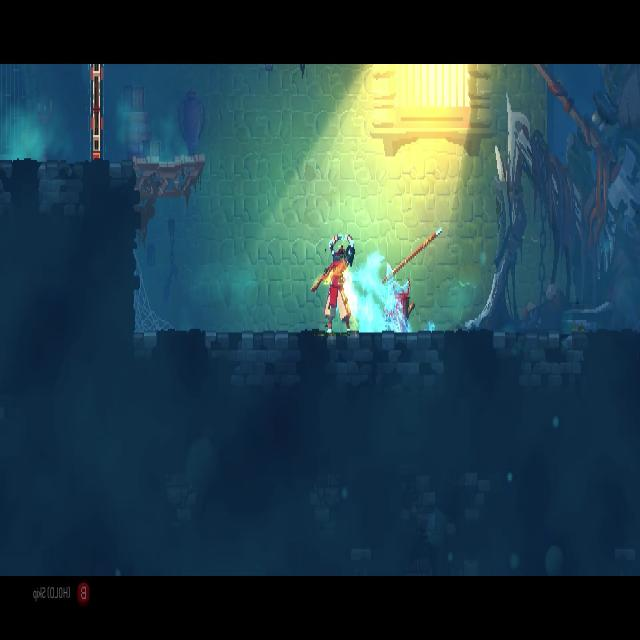agents: (313, 231, 360, 331)
